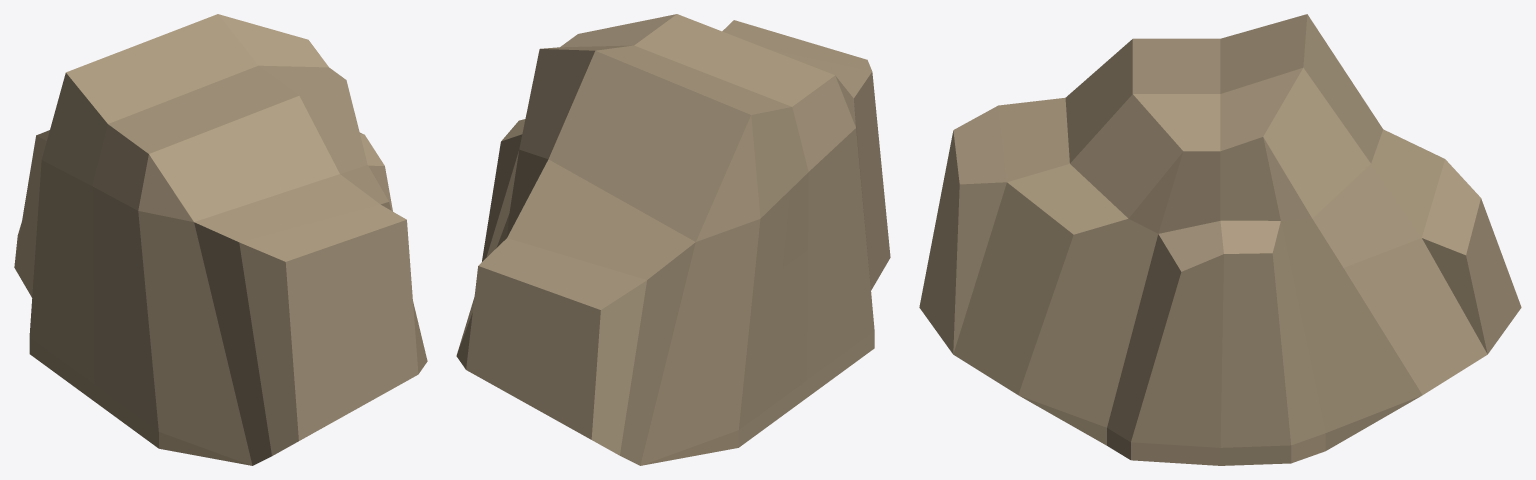
Rendered from rocher_2.glb.
The picture shows the model from 3 angles, left to right: view 1: azimuth 30°, elevation 25°; view 2: azimuth 150°, elevation 25°; view 3: azimuth 270°, elevation 25°; orthographic projection. The views are drawn at different scales.
Parts seen in each view (by area): view 1: rocher_2; view 2: rocher_2; view 3: rocher_2.
Part boxes in pixels (bbox=[...]): rocher_2: bbox=[14, 14, 427, 465]; rocher_2: bbox=[456, 14, 890, 465]; rocher_2: bbox=[919, 14, 1521, 465].
Size of the model in its own units: 1.14 by 1.2 by 1.91.
